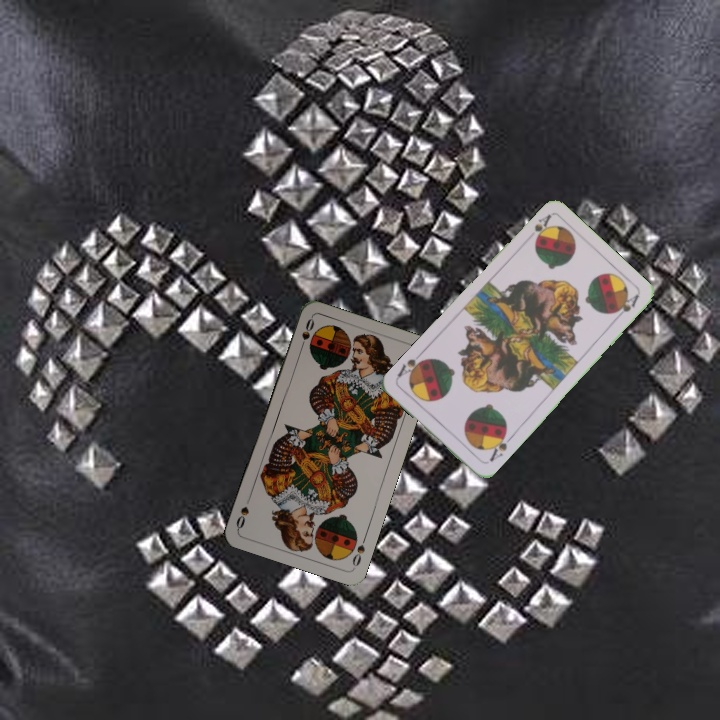SA: (485, 428, 515, 464), (530, 211, 554, 246)
SO: (295, 314, 317, 354), (348, 531, 369, 569)
